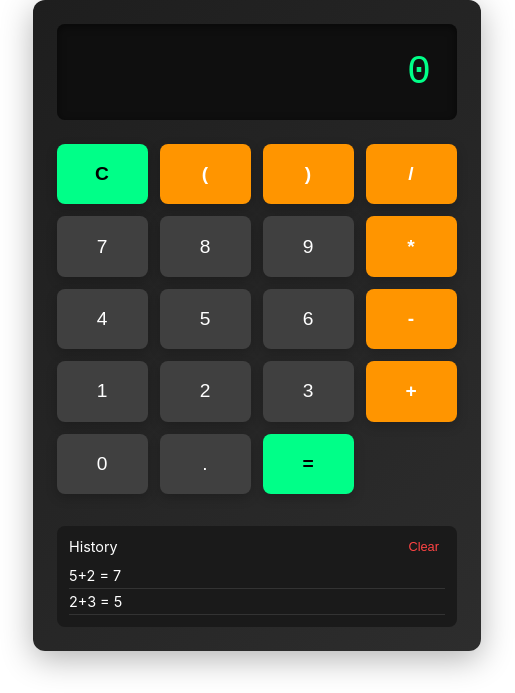
Test: Calculator integration › clear button resets
Click the button "1" at (102, 391), box [57,361,148,422]
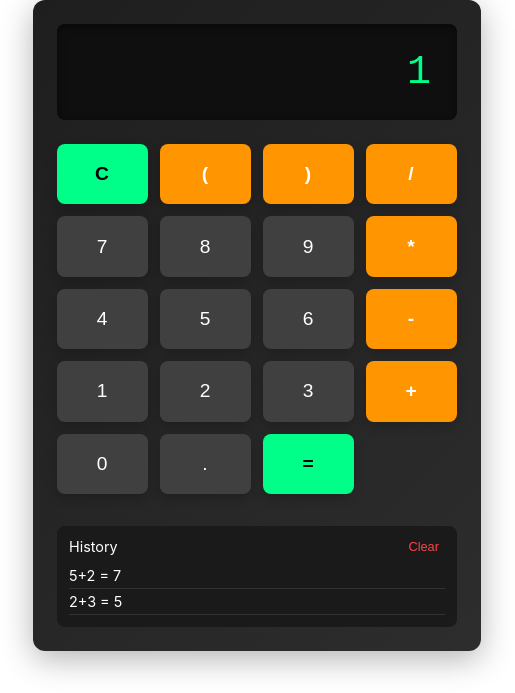
Click the button "C" at (102, 174), box [57,144,148,204]
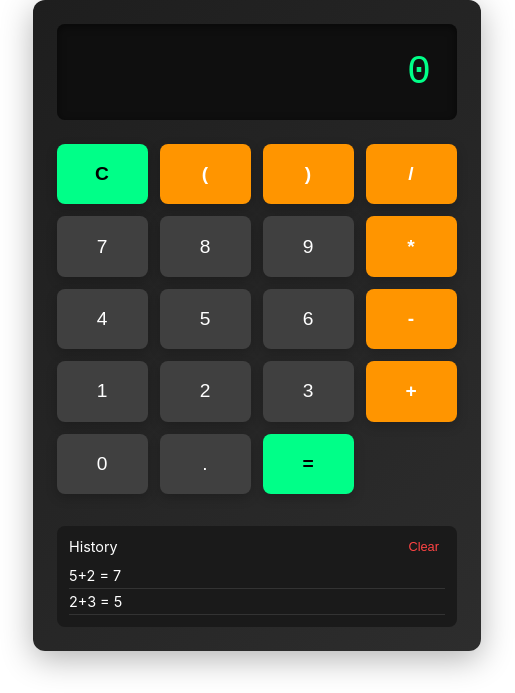
Expected: the text "0" is shown, [407,50,433,94]
